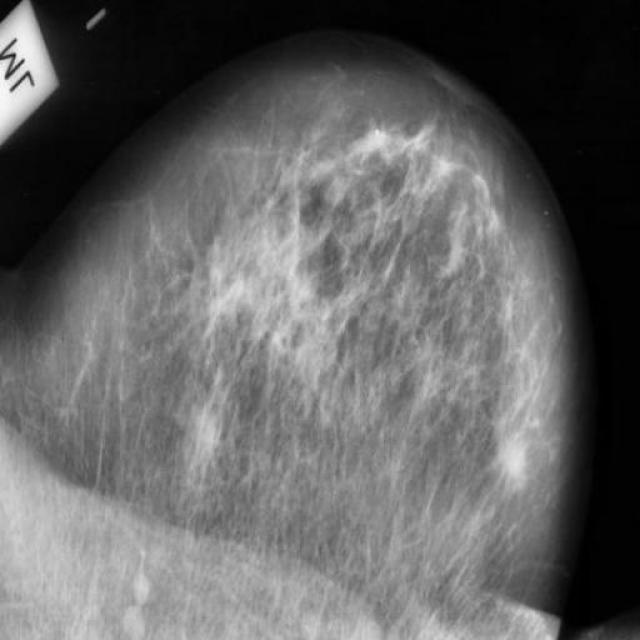cancer: (490, 416, 540, 493)
